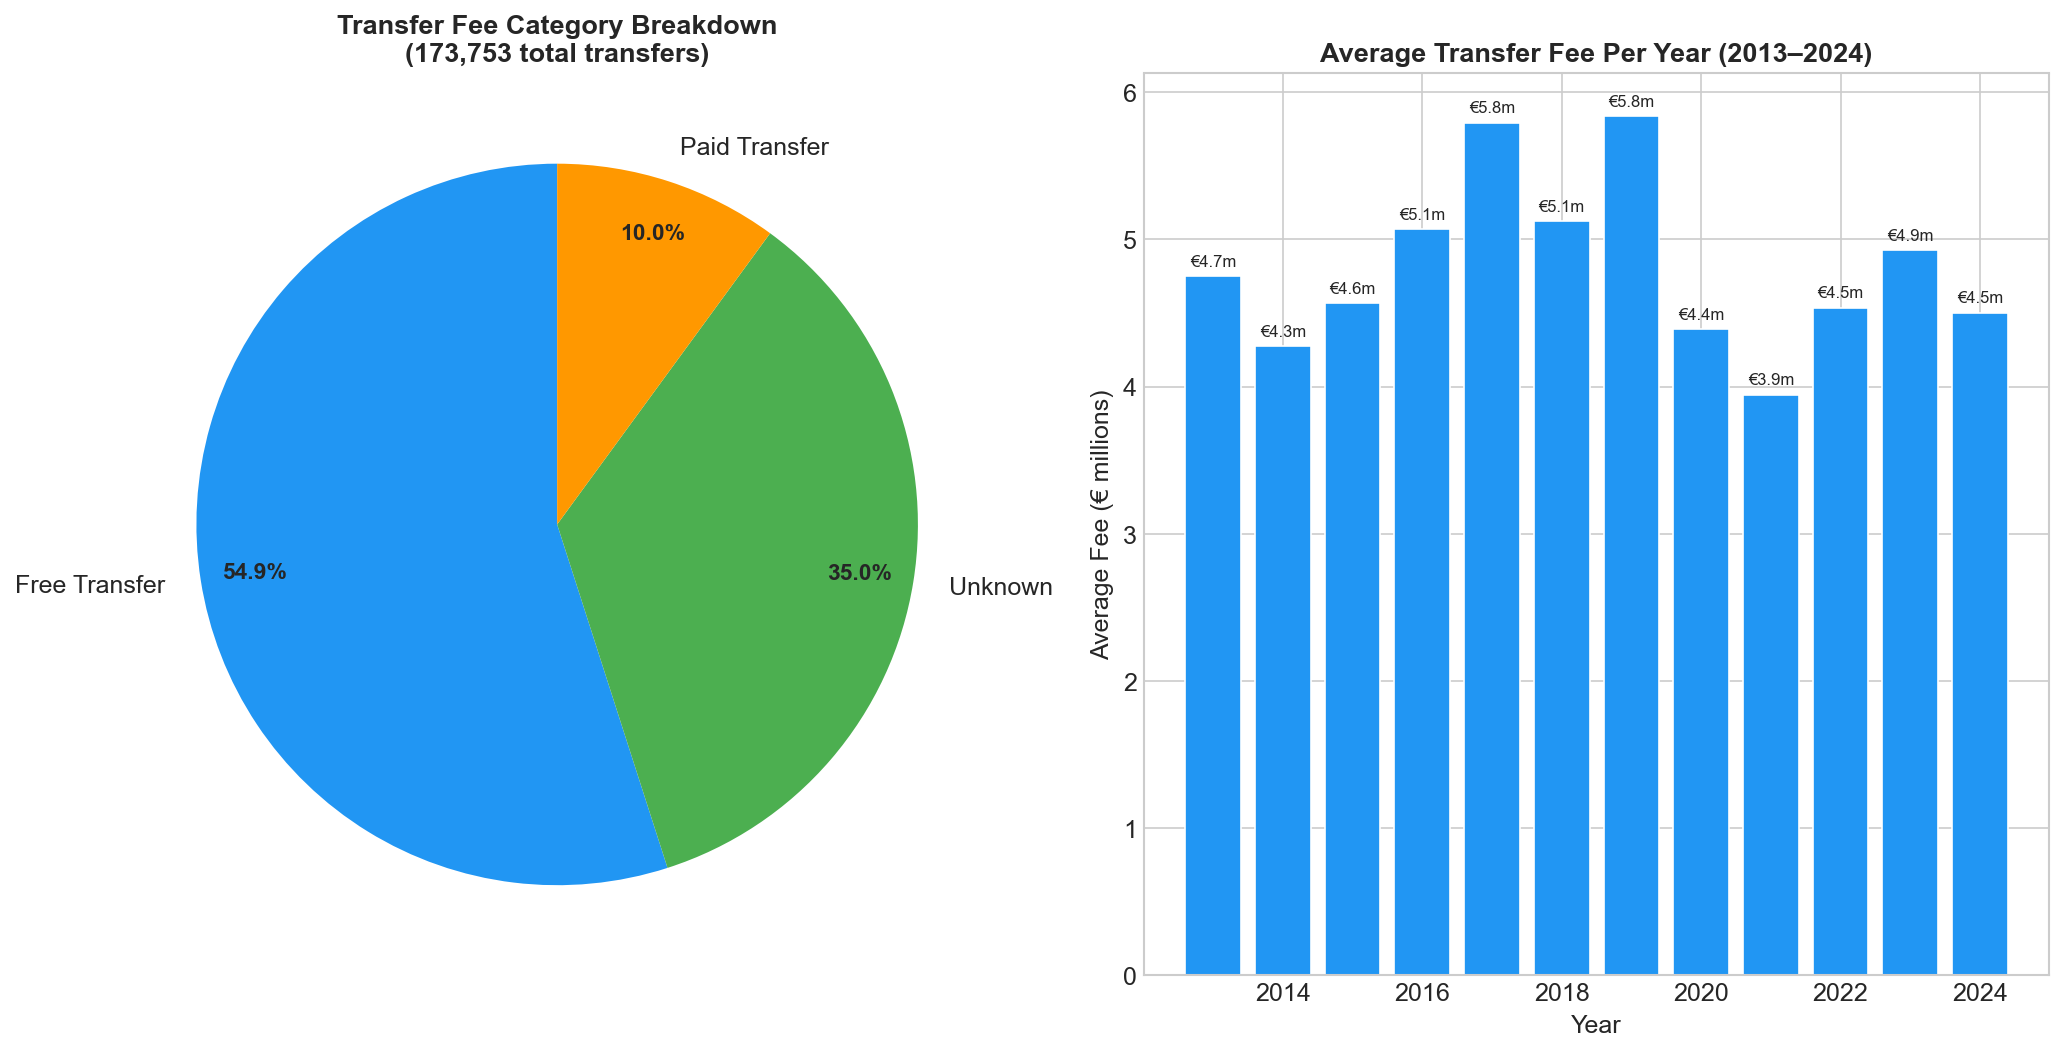

The dashboard page shown, as its layout file describes it:
{"tool":"powerbi","page":{"name":"Page 2","canvas":[1280,720],"ordinal":1},"visuals":[{"type":"pieChart","fields":{"Category":["transfers_cleaned.fee_category"],"Y":["transfers_cleaned.Num Transfers"]},"box":[0,0,580.1,720.7],"z":0},{"type":"clusteredColumnChart","fields":{"Y":["transfers_cleaned.Total Spend"],"Category":["transfers_cleaned.season_year"]},"box":[580.1,0,700.2,720.7],"z":1000}]}

Visuals, with their boxes on the page's 1280x720 design canvas (x1, y1, x2, y2). These are canvas units, not pixel positions in the 2064x1052 screenshot, which may show the page scaled, cropped or inside an application window:
pieChart - transfers_cleaned.fee_category x transfers_cleaned.Num Transfers: <bbox>0, 0, 580, 721</bbox>
clusteredColumnChart - transfers_cleaned.Total Spend x transfers_cleaned.season_year: <bbox>580, 0, 1280, 721</bbox>
